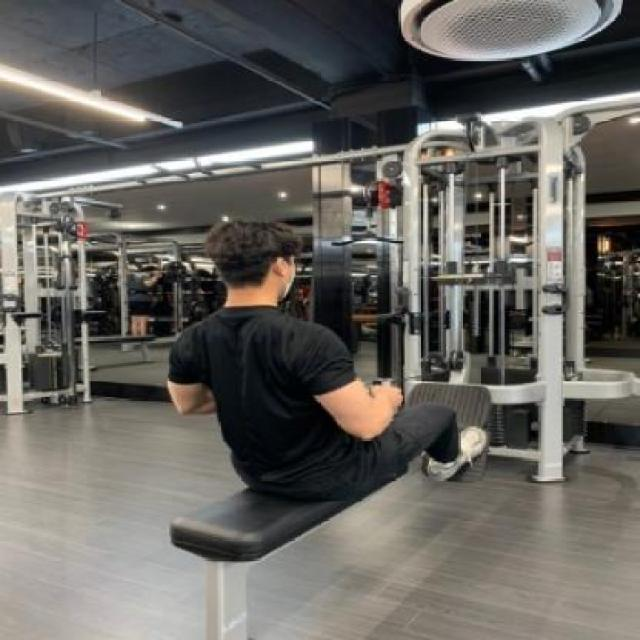Seated Cable Rows: (152, 103, 634, 640)
